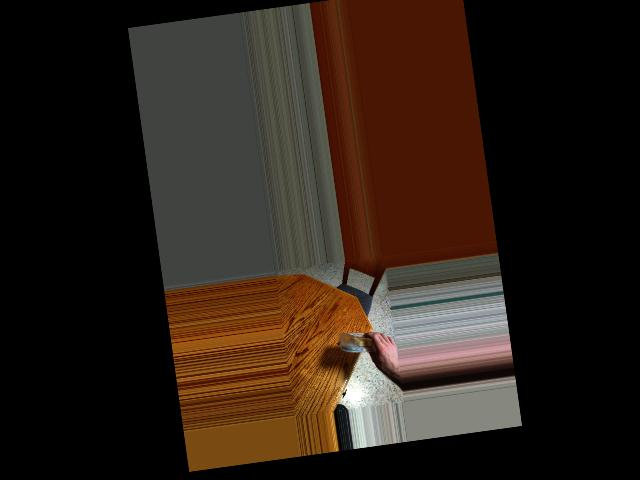cheese: (336, 319, 388, 373)
